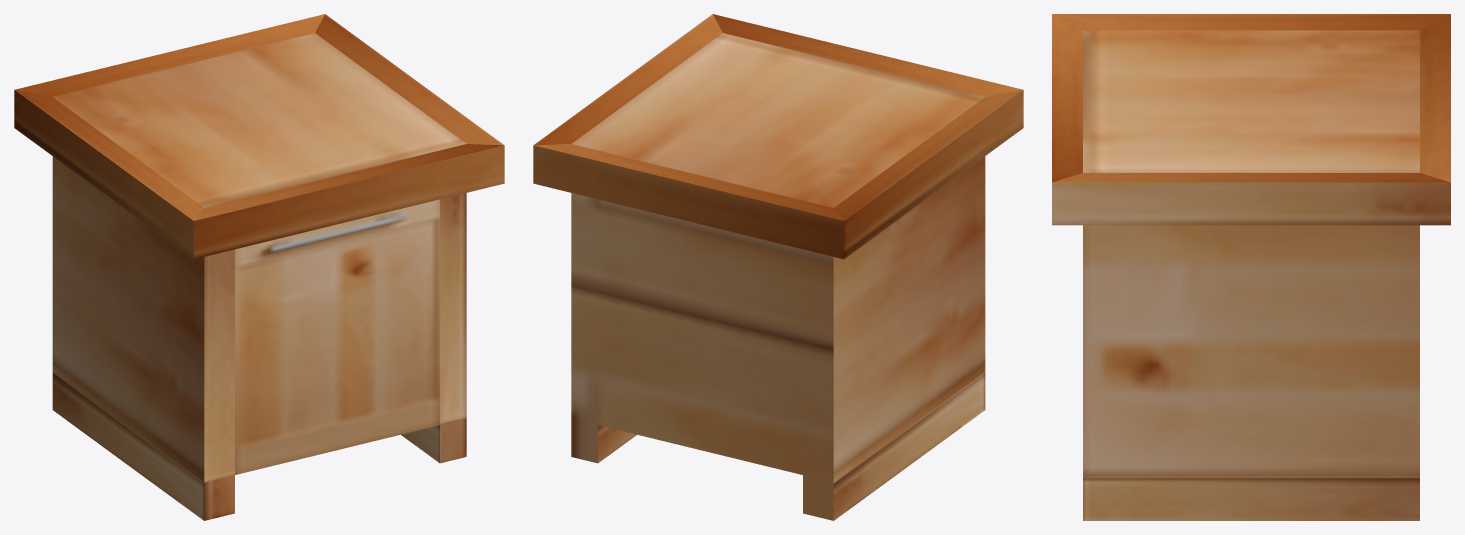
File: Commode.fbx
3 views of the same model, side by side, from view 1: azimuth 30°, elevation 25°; view 2: azimuth 150°, elevation 25°; view 3: azimuth 270°, elevation 25° (orthographic). The views are drawn at different scales.
Visible parts, largest first — view 1: Comode; view 2: Comode; view 3: Comode.
Boxes of the visible parts, box(x1,y1,x2,y2) form: Comode: box(14, 14, 504, 520); Comode: box(533, 14, 1023, 520); Comode: box(1052, 14, 1450, 520).
Size of the model in its own units: 237 by 230 by 237.
